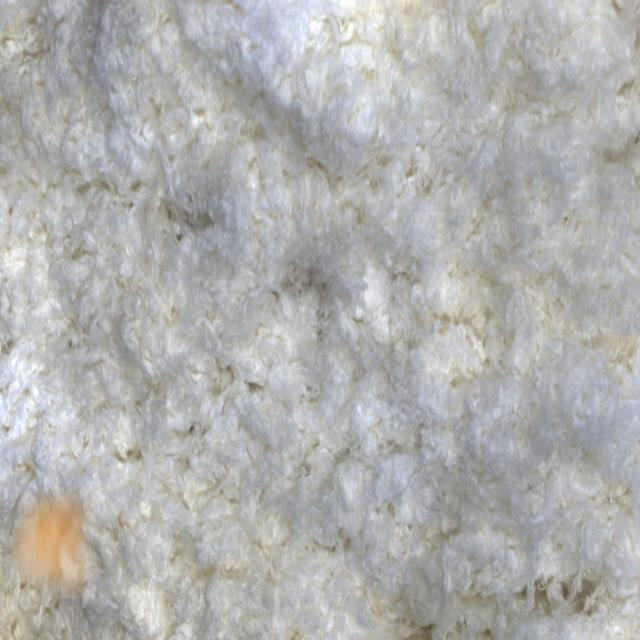dust: (7, 485, 97, 599)
